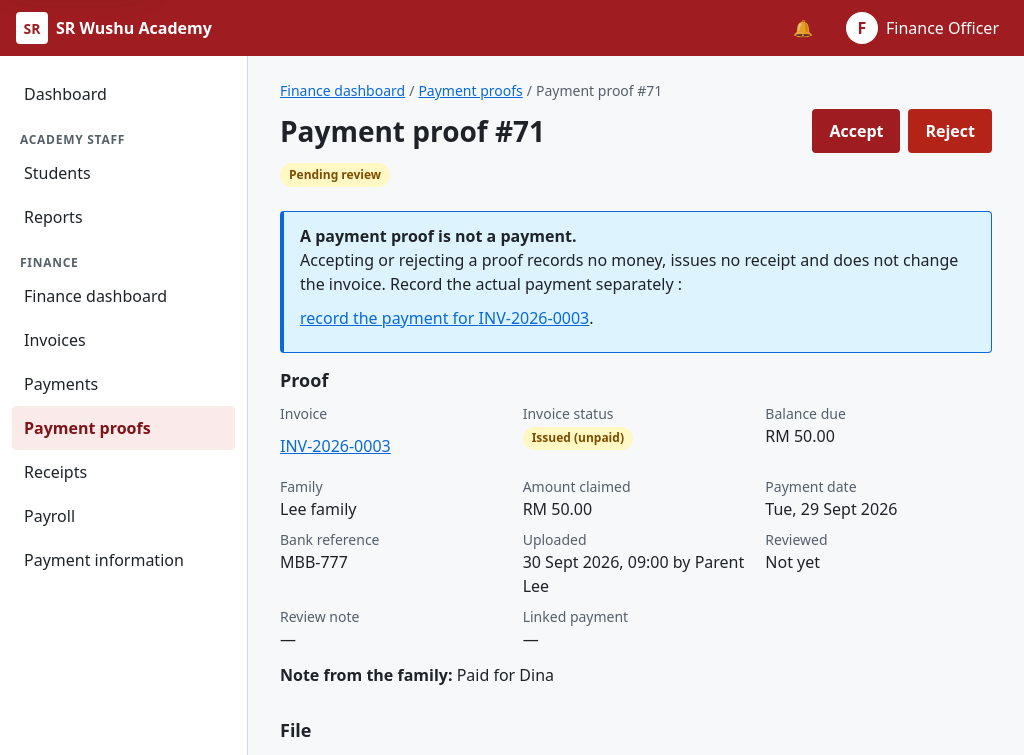
Test case: payment proofs › accepting sends only the review (no payment) and says so
Click the button "Accept" at [856, 131], box [812, 109, 900, 153]
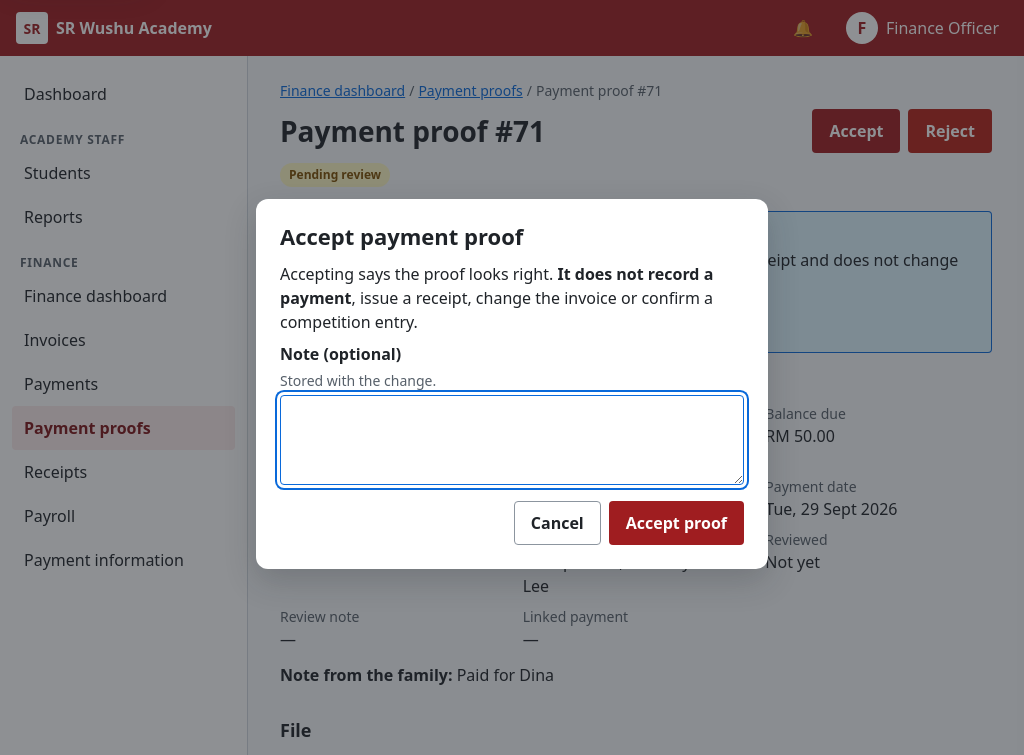
Check: the dialog "Accept payment proof" shows "It does not record a payment", box [280, 263, 713, 309]
Type "Matches bank" into the text box labelled "Note (optional)" at [512, 440], box [280, 395, 744, 485]
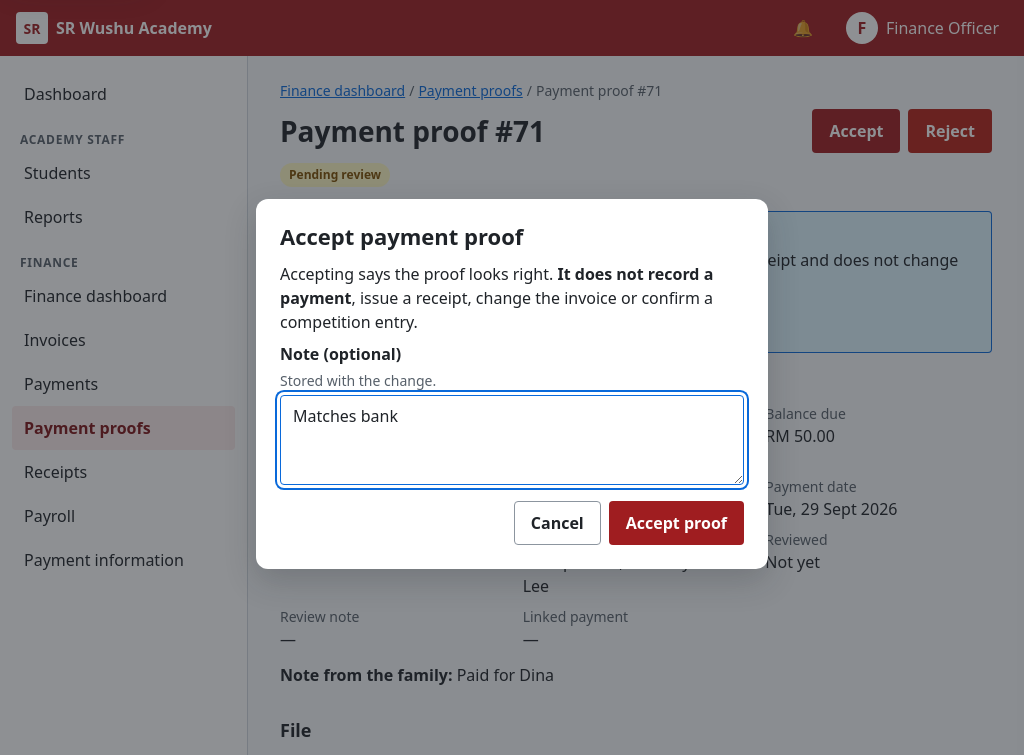
Click the button "Accept proof" at [676, 523], box [609, 501, 744, 545]
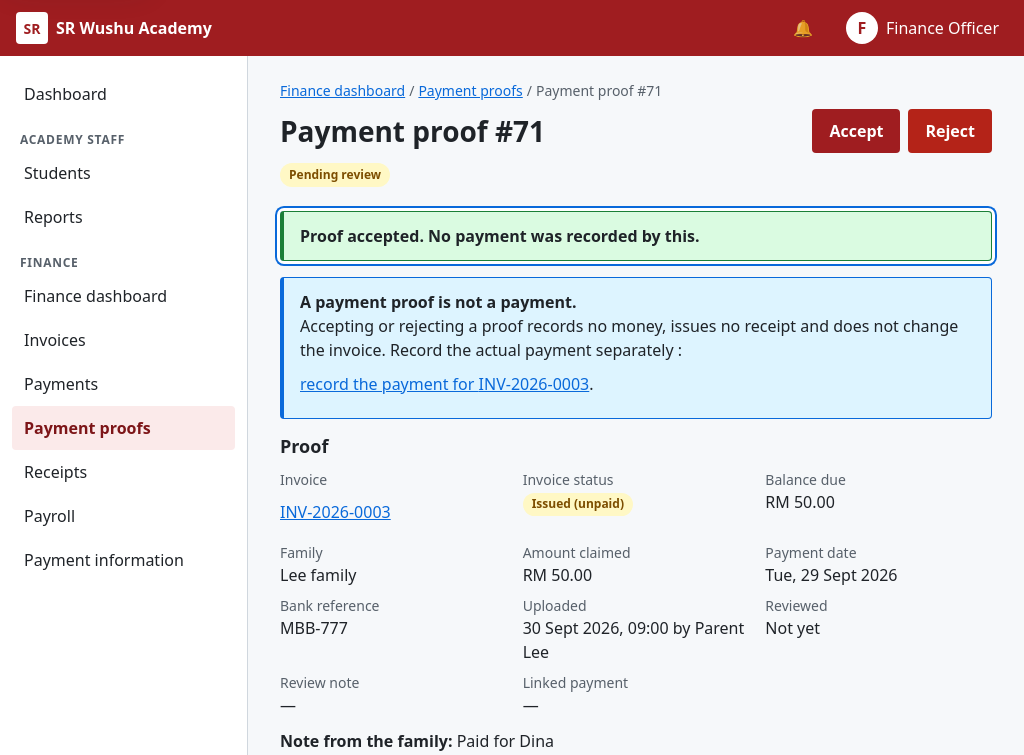
Check: the text "Proof accepted. No payment was recorded by this." is shown, box [300, 225, 700, 247]
